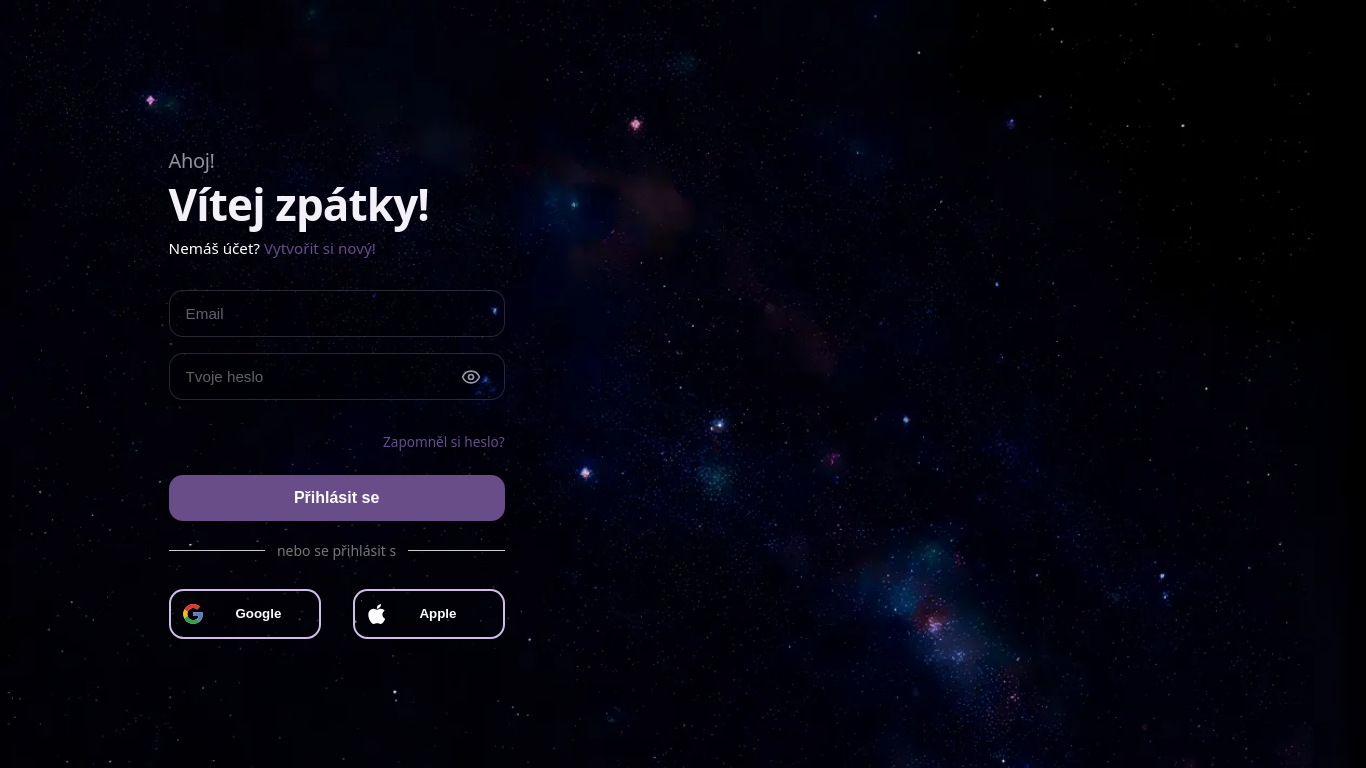
Test: LoginForm › shows error when submitting empty email
The image size is (1366, 768).
Step 1. Click the button "Přihlásit se" → (337, 498), box [169,475,505,521]
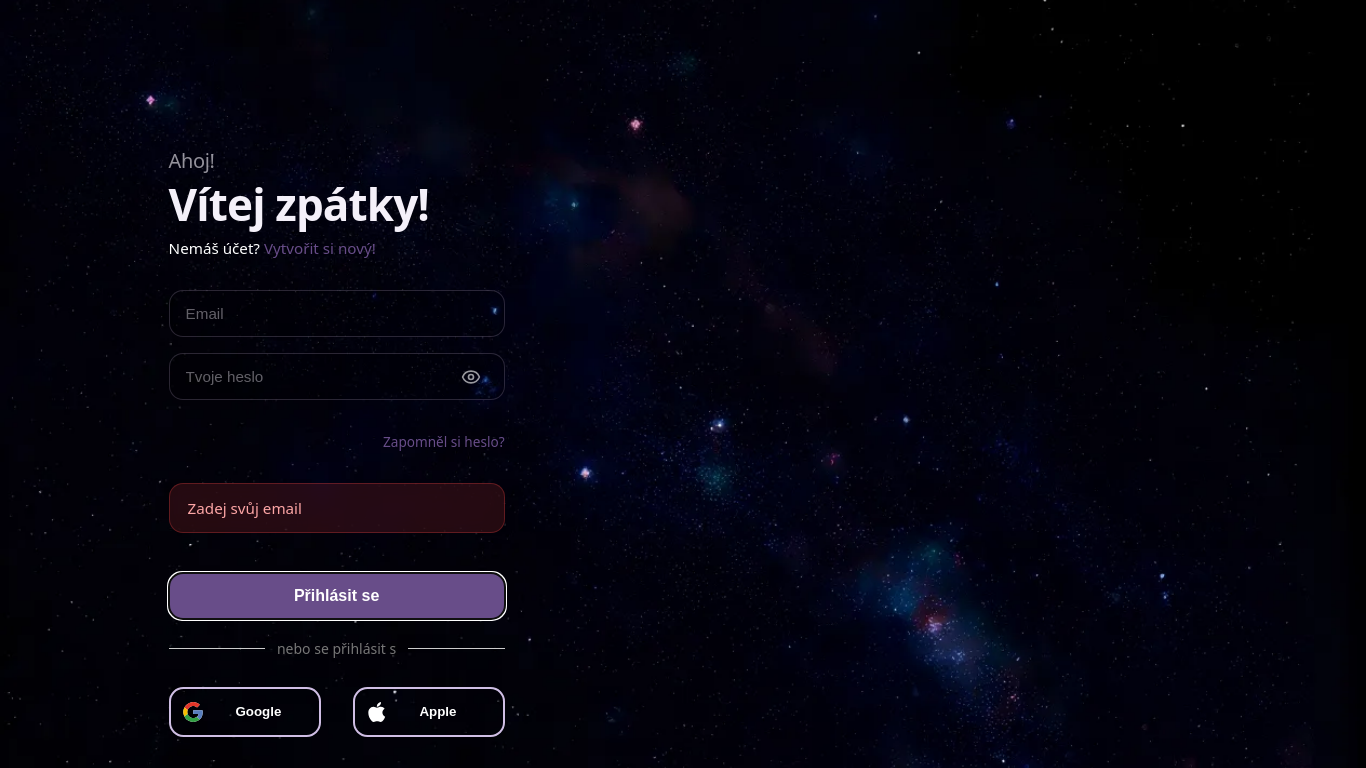
Expected: the message reads "Zadej svůj email", [188,498,302,518]
